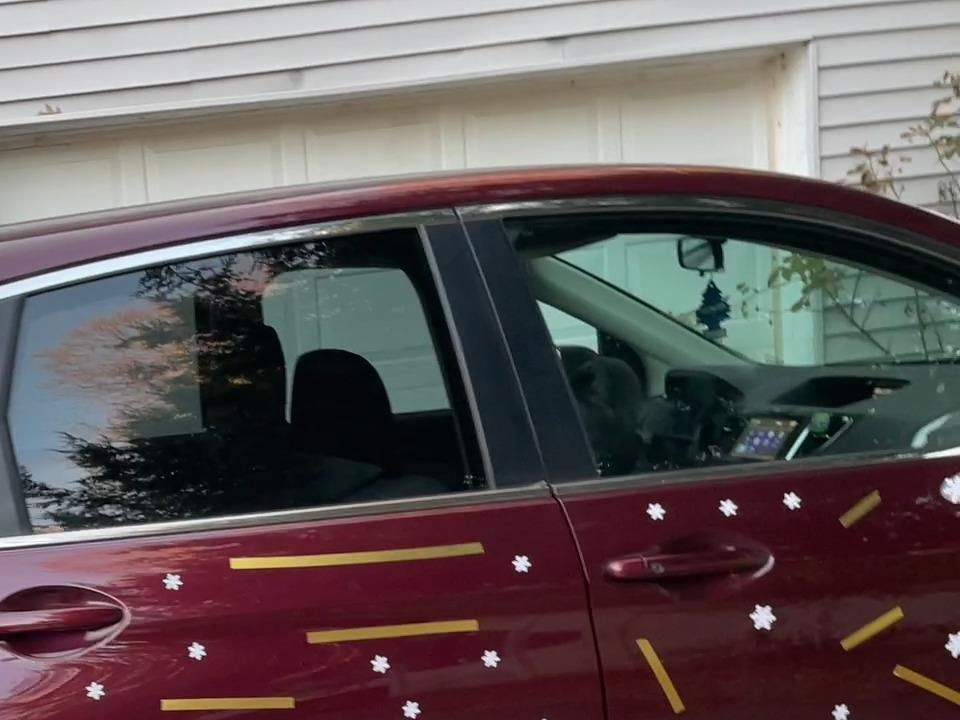dent: (748, 601, 779, 632), (477, 646, 505, 672), (82, 679, 110, 703), (184, 638, 209, 664), (779, 489, 806, 512), (715, 496, 741, 519), (368, 650, 392, 674), (160, 571, 187, 592), (513, 550, 534, 576), (645, 500, 667, 524), (398, 700, 424, 720), (830, 699, 851, 720), (524, 714, 558, 720)
scratch: (226, 538, 488, 576), (302, 617, 484, 648), (632, 633, 690, 717), (156, 691, 299, 719), (889, 659, 960, 711), (839, 600, 907, 654), (838, 486, 883, 531)
